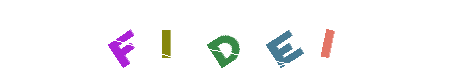1: (166, 0, 246, 80), (272, 0, 352, 80)
D: (192, 0, 272, 80)
E: (240, 0, 320, 80)
F: (82, 0, 162, 80)
